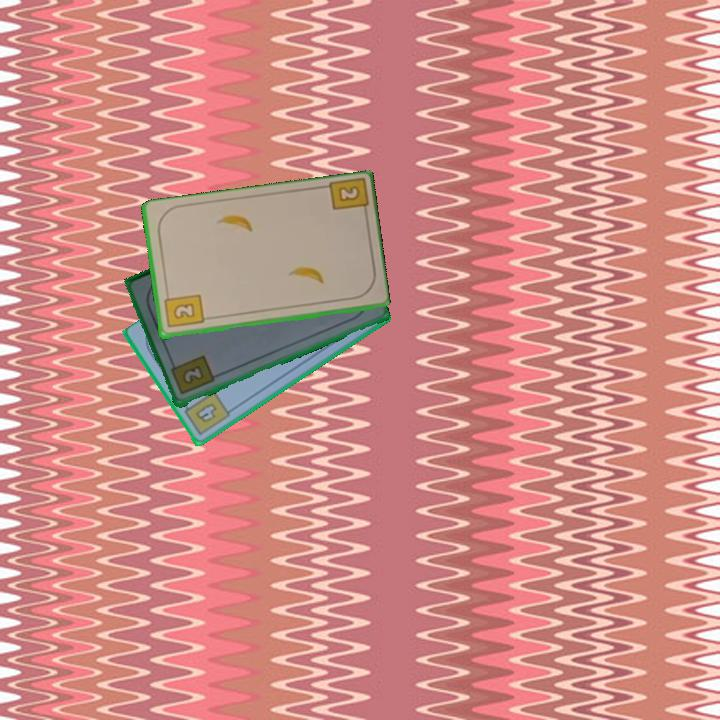2b: (167, 352, 217, 398), (324, 176, 370, 221), (161, 289, 206, 331)
4b: (179, 388, 233, 438)
